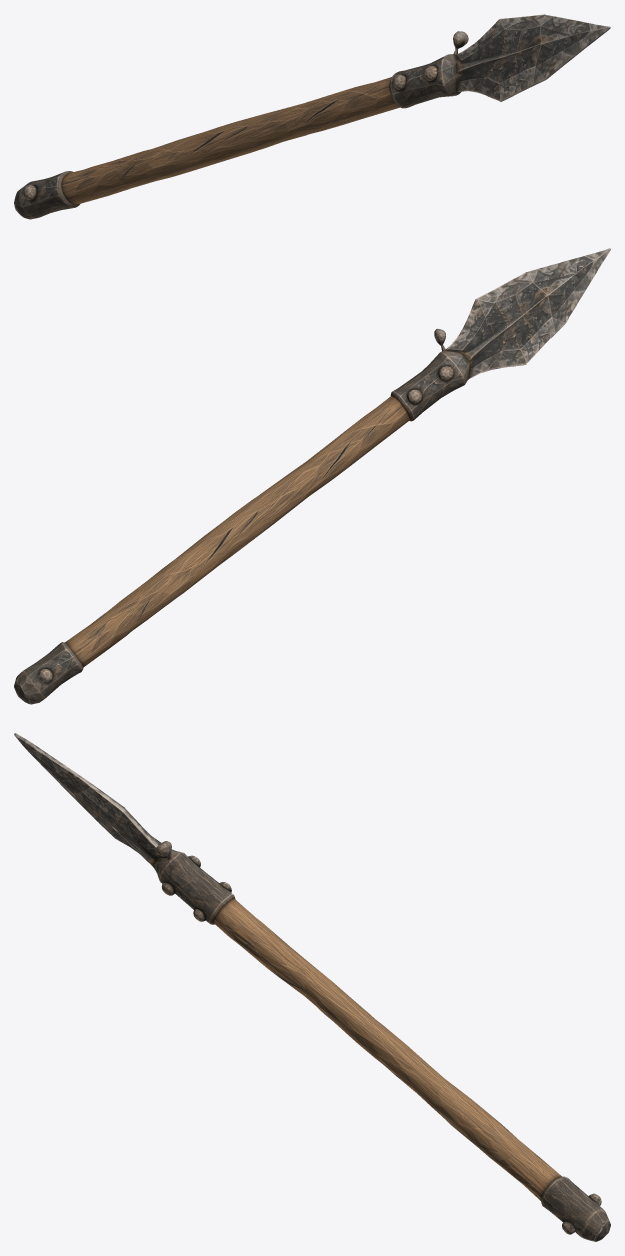
File: iron-spear.glb
3 views of the same model, one above another, from view 1: azimuth 90°, elevation 25°; view 2: azimuth 150°, elevation 25°; view 3: azimuth 270°, elevation 25° (orthographic). The views are drawn at different scales.
Parts seen in each view (by area): view 1: Module_native_iron_spear; view 2: Module_native_iron_spear; view 3: Module_native_iron_spear.
Boxes of the visible parts, x1=… form: Module_native_iron_spear: x1=14, y1=14, x2=610, y2=219; Module_native_iron_spear: x1=14, y1=248, x2=610, y2=704; Module_native_iron_spear: x1=14, y1=733, x2=610, y2=1241.
Bounding box in the file's own units: 0.8889 × 0.8679 × 1.35.
1 material, 1 textured.
